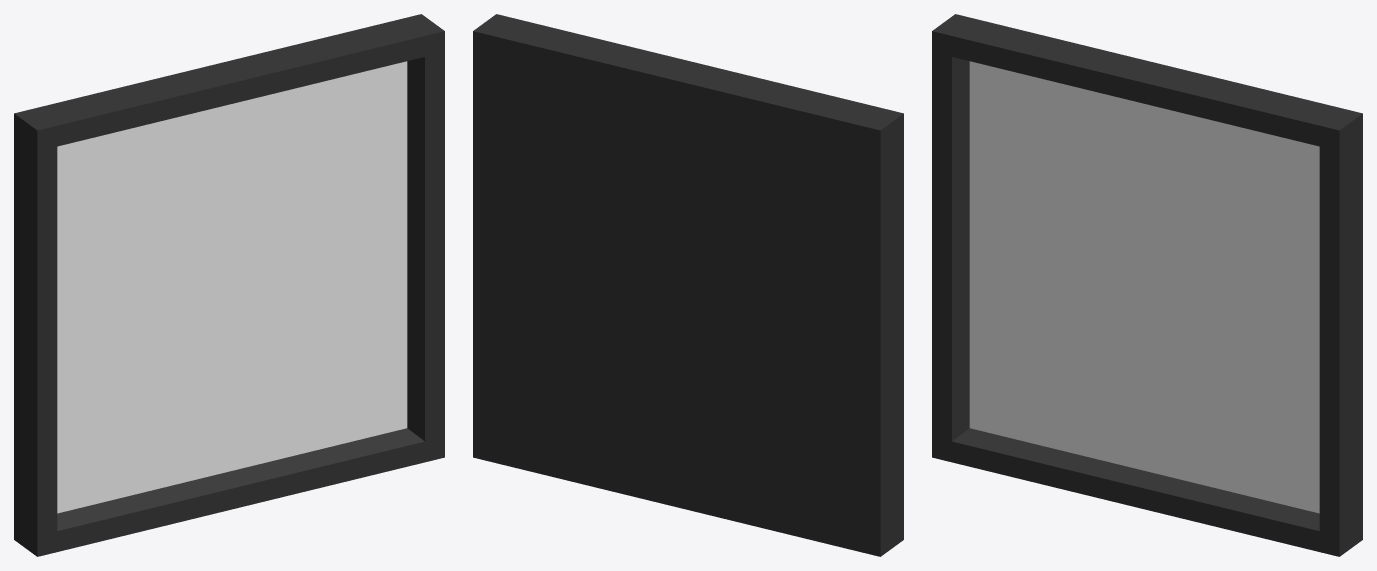
Rendered from Frame01.fbx.
The picture shows the model from 3 angles, left to right: view 1: azimuth 30°, elevation 25°; view 2: azimuth 150°, elevation 25°; view 3: azimuth 330°, elevation 25°; orthographic projection.
Visible parts, largest first — view 1: Box002; view 2: Box002; view 3: Box002.
Boxes of the visible parts, x1,y1,x2,y2 form: Box002: [14, 14, 444, 556]; Box002: [473, 14, 903, 556]; Box002: [932, 14, 1362, 556].
Bounding box in the file's own units: 150 × 150 × 14.91.
1 material, 1 textured.
